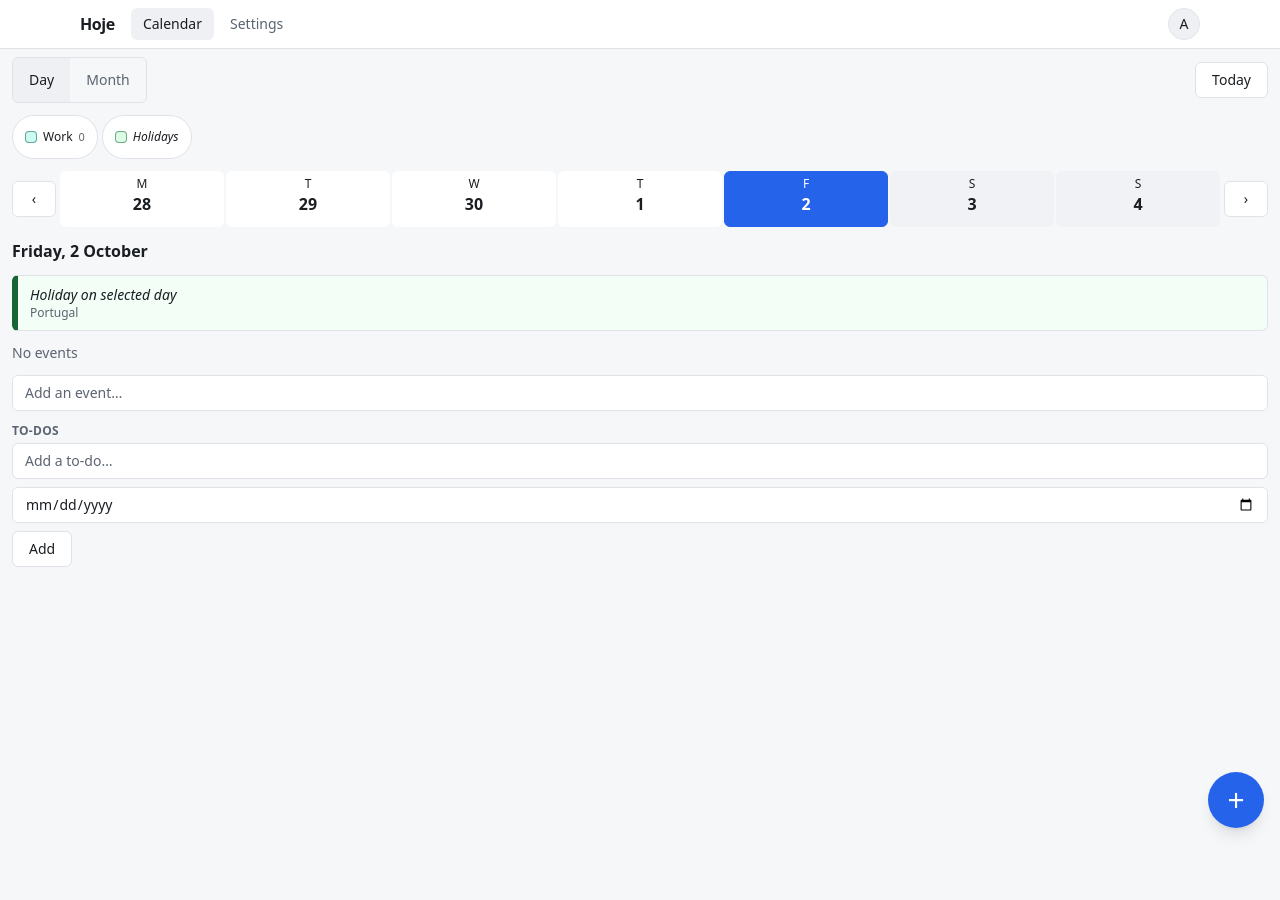
Test: mobile day view: holiday cards › marks estimated holidays with estimated suffix
This screenshot has width=1280, height=900.
// Navigate to day with estimated holiday by clicking next week
Click the button named "Next week". click: (1246, 199)
box: [1224,181,1268,217]
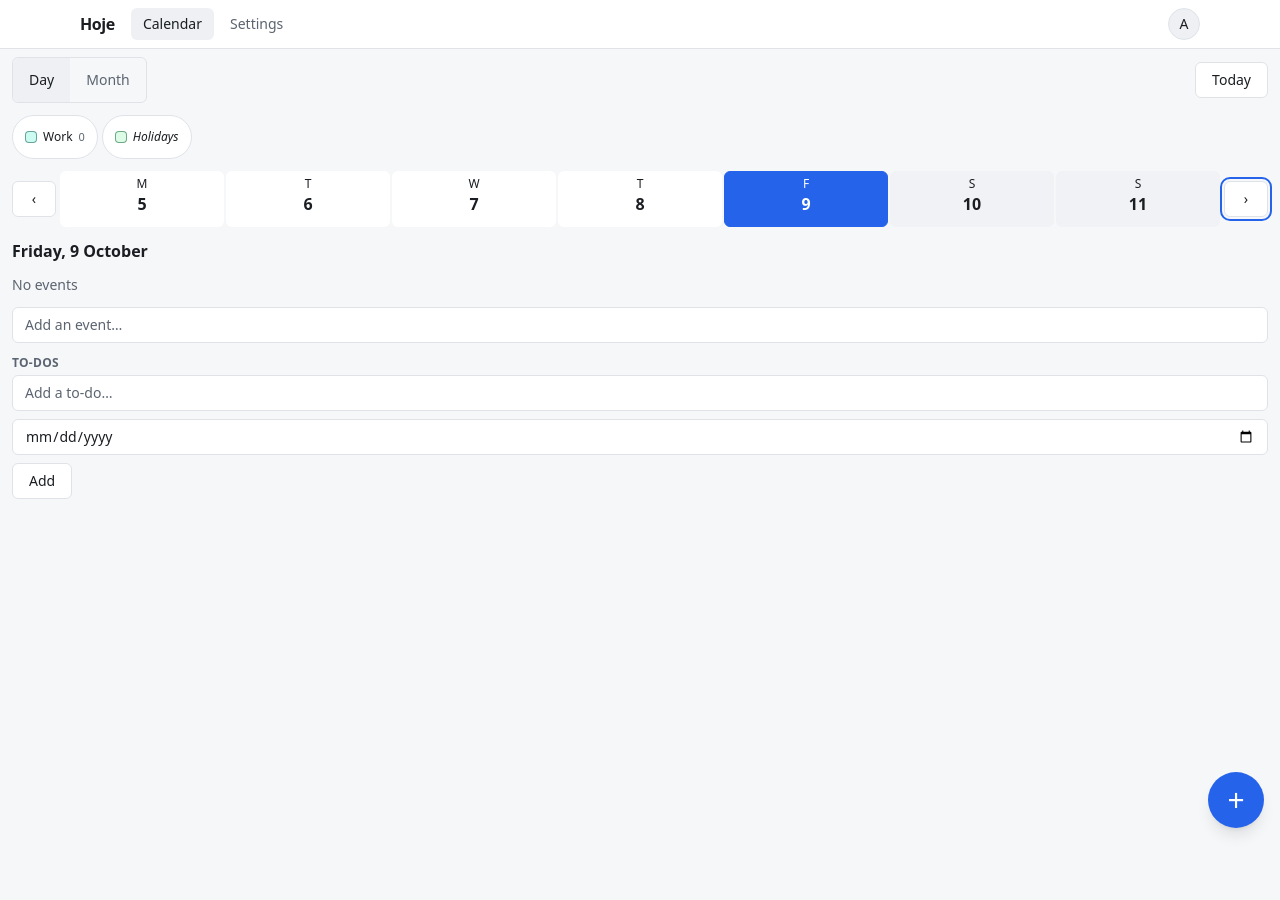
Click the button "M 5". click: (142, 199)
box: [60,171,224,227]
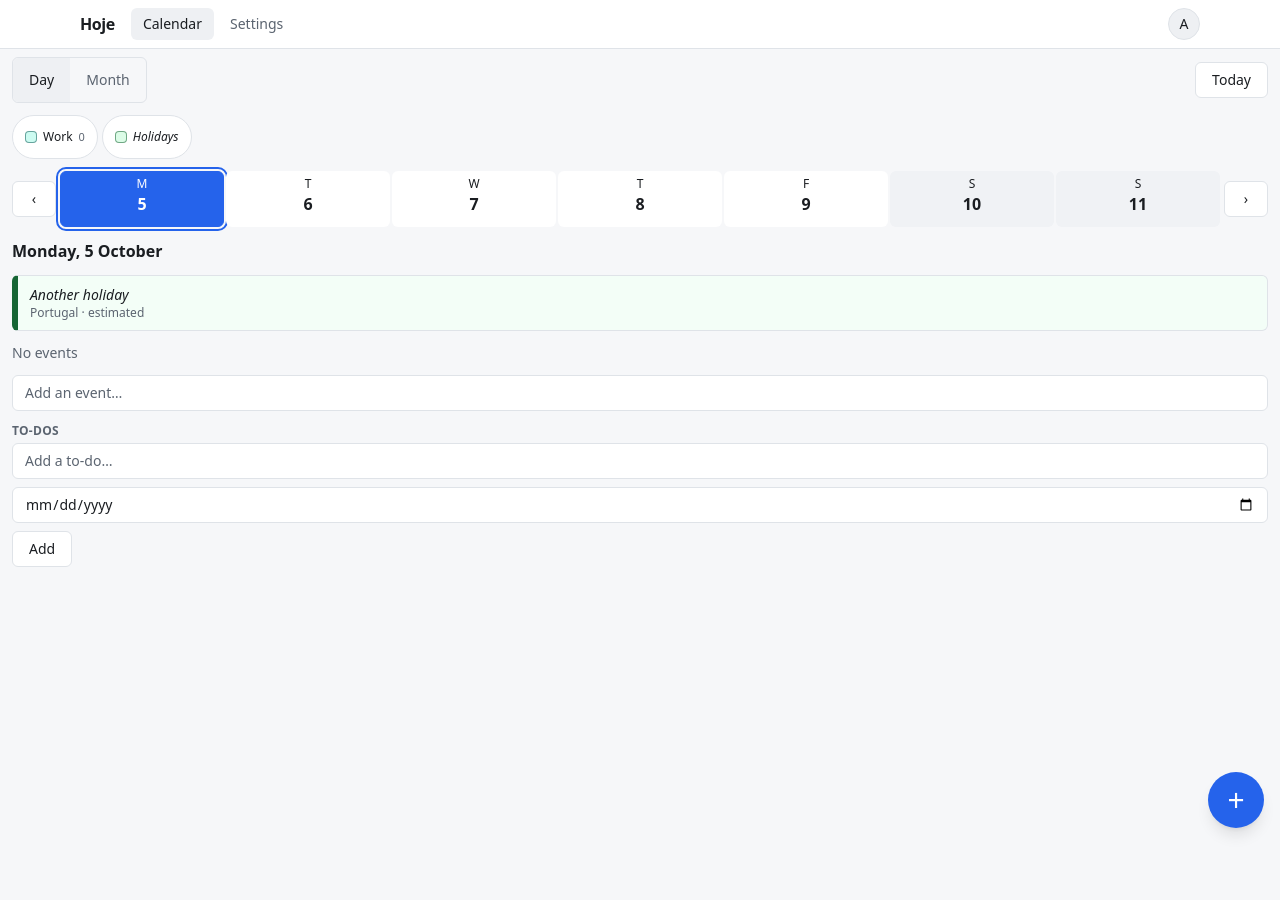
Expected: the list named "Holidays" shows "Another holiday", [30,285,129,304]
Expected: the list named "Holidays" shows "estimated", [30,304,144,321]
